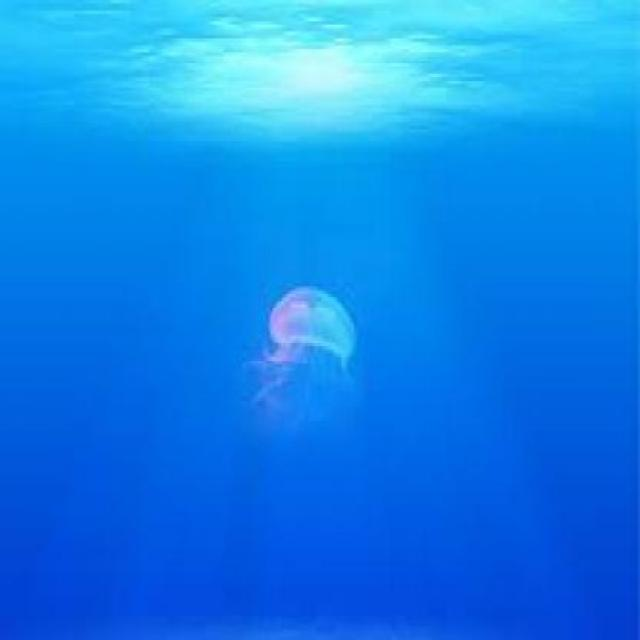Jellyfish: (234, 272, 360, 434)
